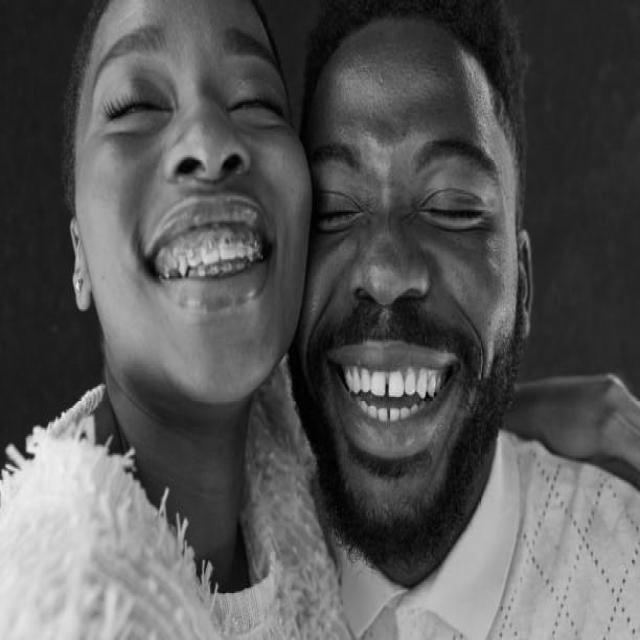real: (299, 0, 534, 555), (67, 1, 312, 404), (310, 132, 517, 244), (96, 54, 294, 143)
